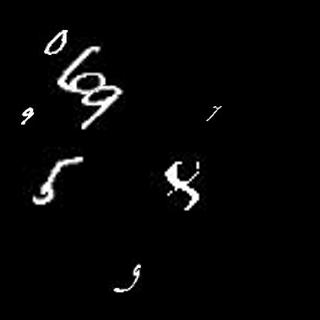eight: (160, 157, 208, 210)
five: (33, 158, 81, 209)
nine: (74, 87, 125, 135), (112, 265, 145, 292), (20, 103, 41, 126)
seven: (202, 104, 222, 123)
six: (60, 48, 105, 91)
zero: (43, 29, 70, 55)
